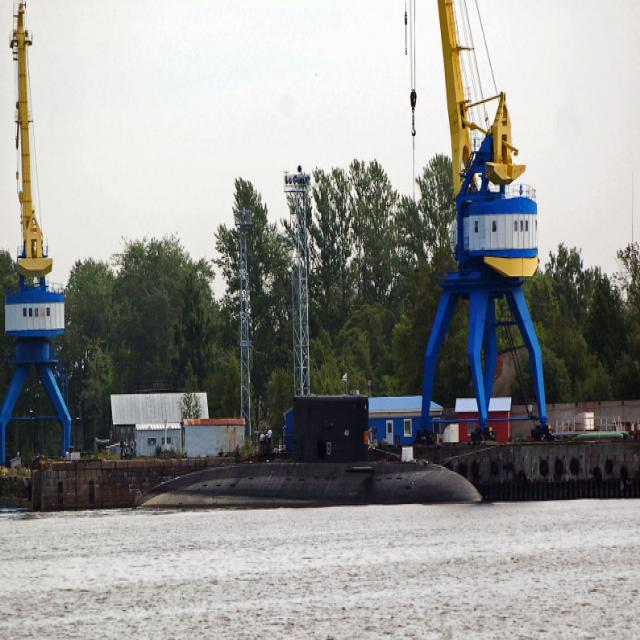submarine: (143, 391, 493, 502)
